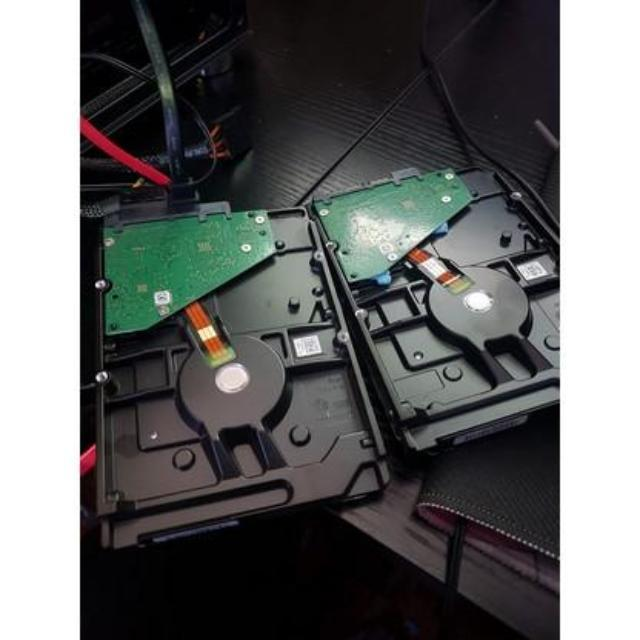DISK: (90, 205, 390, 548), (312, 170, 558, 458)
